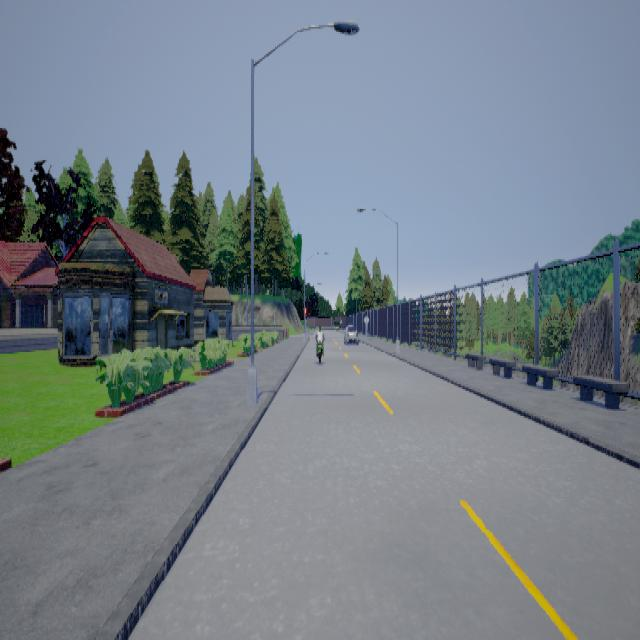motobike: (316, 325, 325, 362)
vehicle: (345, 322, 361, 344)
